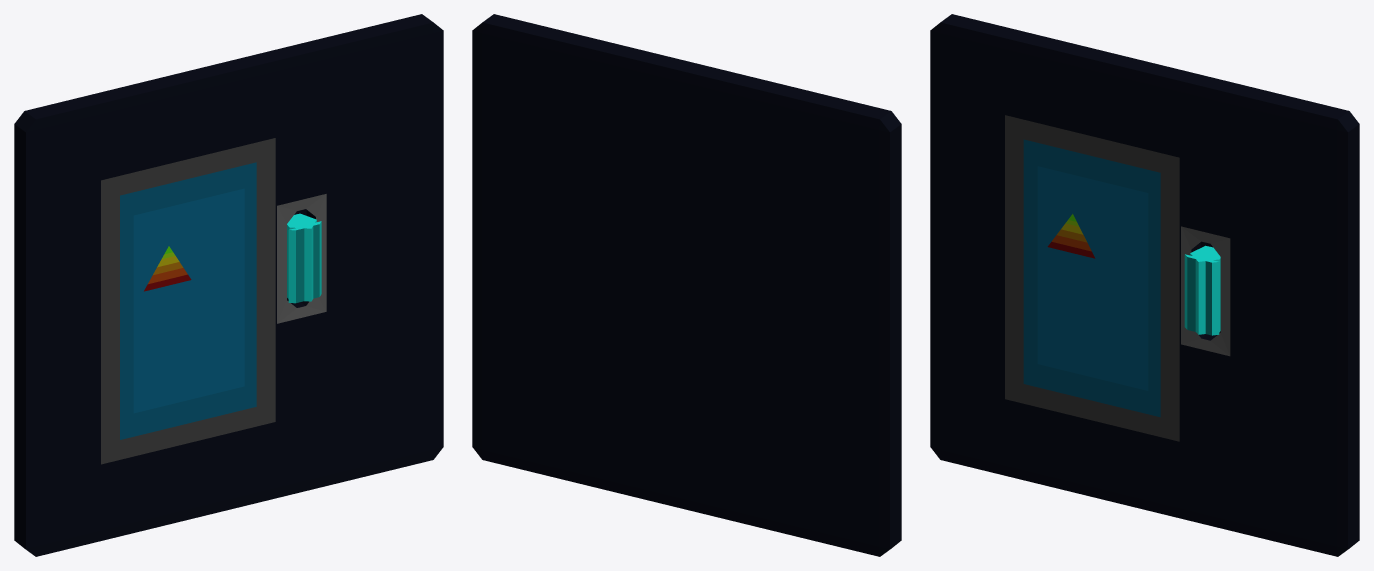
File: fridge.fbx
The picture shows the model from 3 angles, left to right: view 1: azimuth 30°, elevation 25°; view 2: azimuth 150°, elevation 25°; view 3: azimuth 330°, elevation 25°; orthographic projection.
Parts seen in each view (by area): view 1: Cube; view 2: Cube; view 3: Cube.
Boxes of the visible parts, box(x1,y1,x2,y2) form: Cube: box(14, 14, 443, 556); Cube: box(472, 14, 901, 556); Cube: box(930, 14, 1359, 556).
Size of the model in its own units: 120 by 121 by 10.25.
